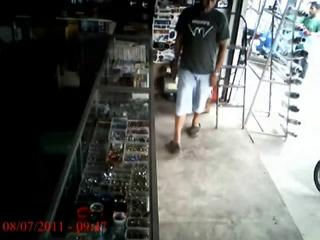Normal: (301, 2, 320, 36)
shoplifting: (166, 0, 230, 153)
